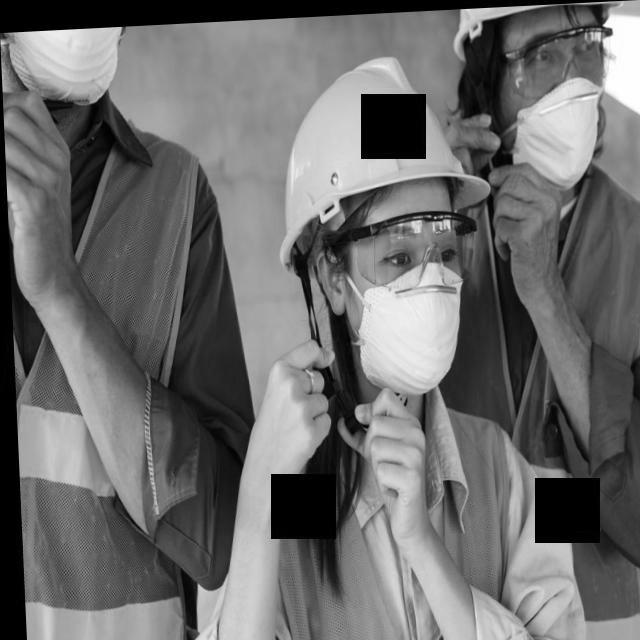safety_helmet: (278, 55, 492, 268)
